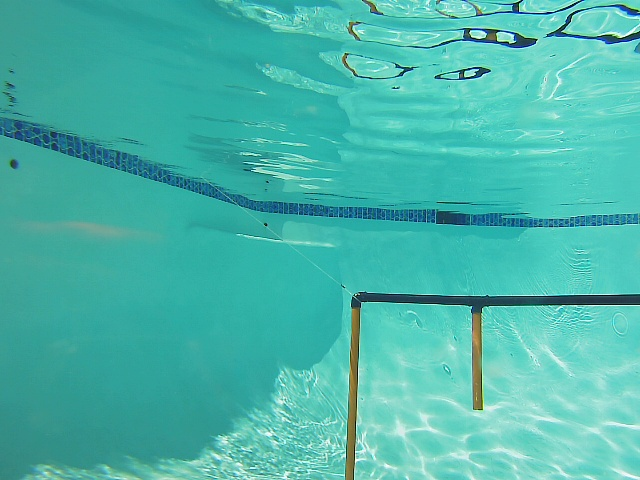Gate: (339, 302, 361, 480), (470, 306, 482, 418)
